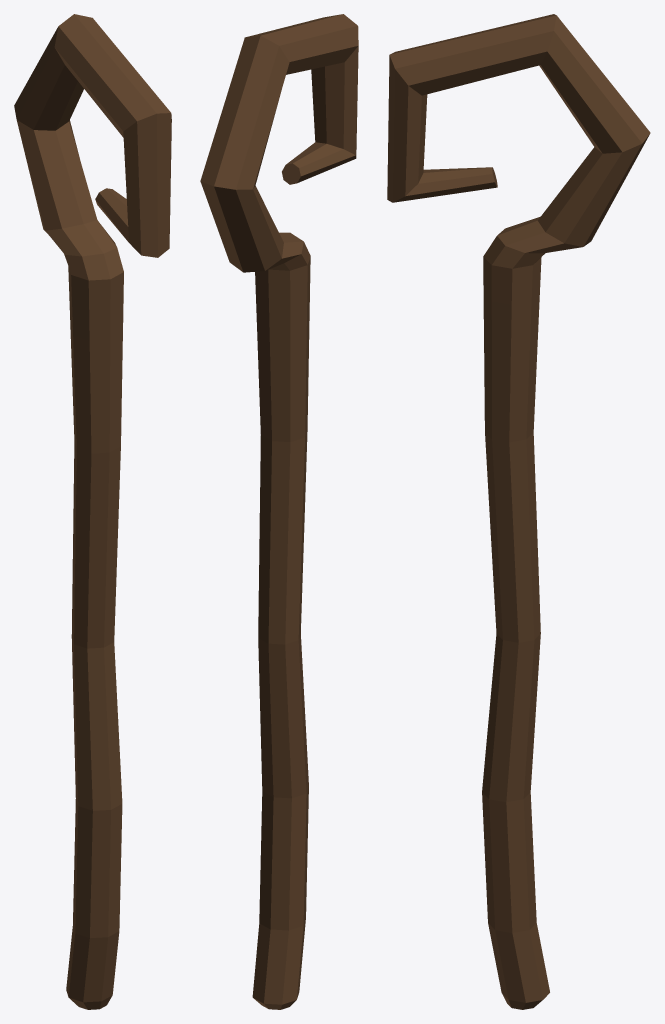
The model's file is staff.glb.
The picture shows the model from 3 angles, left to right: view 1: azimuth 30°, elevation 25°; view 2: azimuth 150°, elevation 25°; view 3: azimuth 270°, elevation 25°; orthographic projection.
Parts seen in each view (by area): view 1: Cylinder; view 2: Cylinder; view 3: Cylinder.
Boxes of the visible parts, left/top/right/bottom form: Cylinder: left=14, top=14, right=171, bottom=1009; Cylinder: left=200, top=14, right=358, bottom=1009; Cylinder: left=387, top=14, right=650, bottom=1009.
Size of the model in its own units: 0.1438 by 2.68 by 0.6485.
